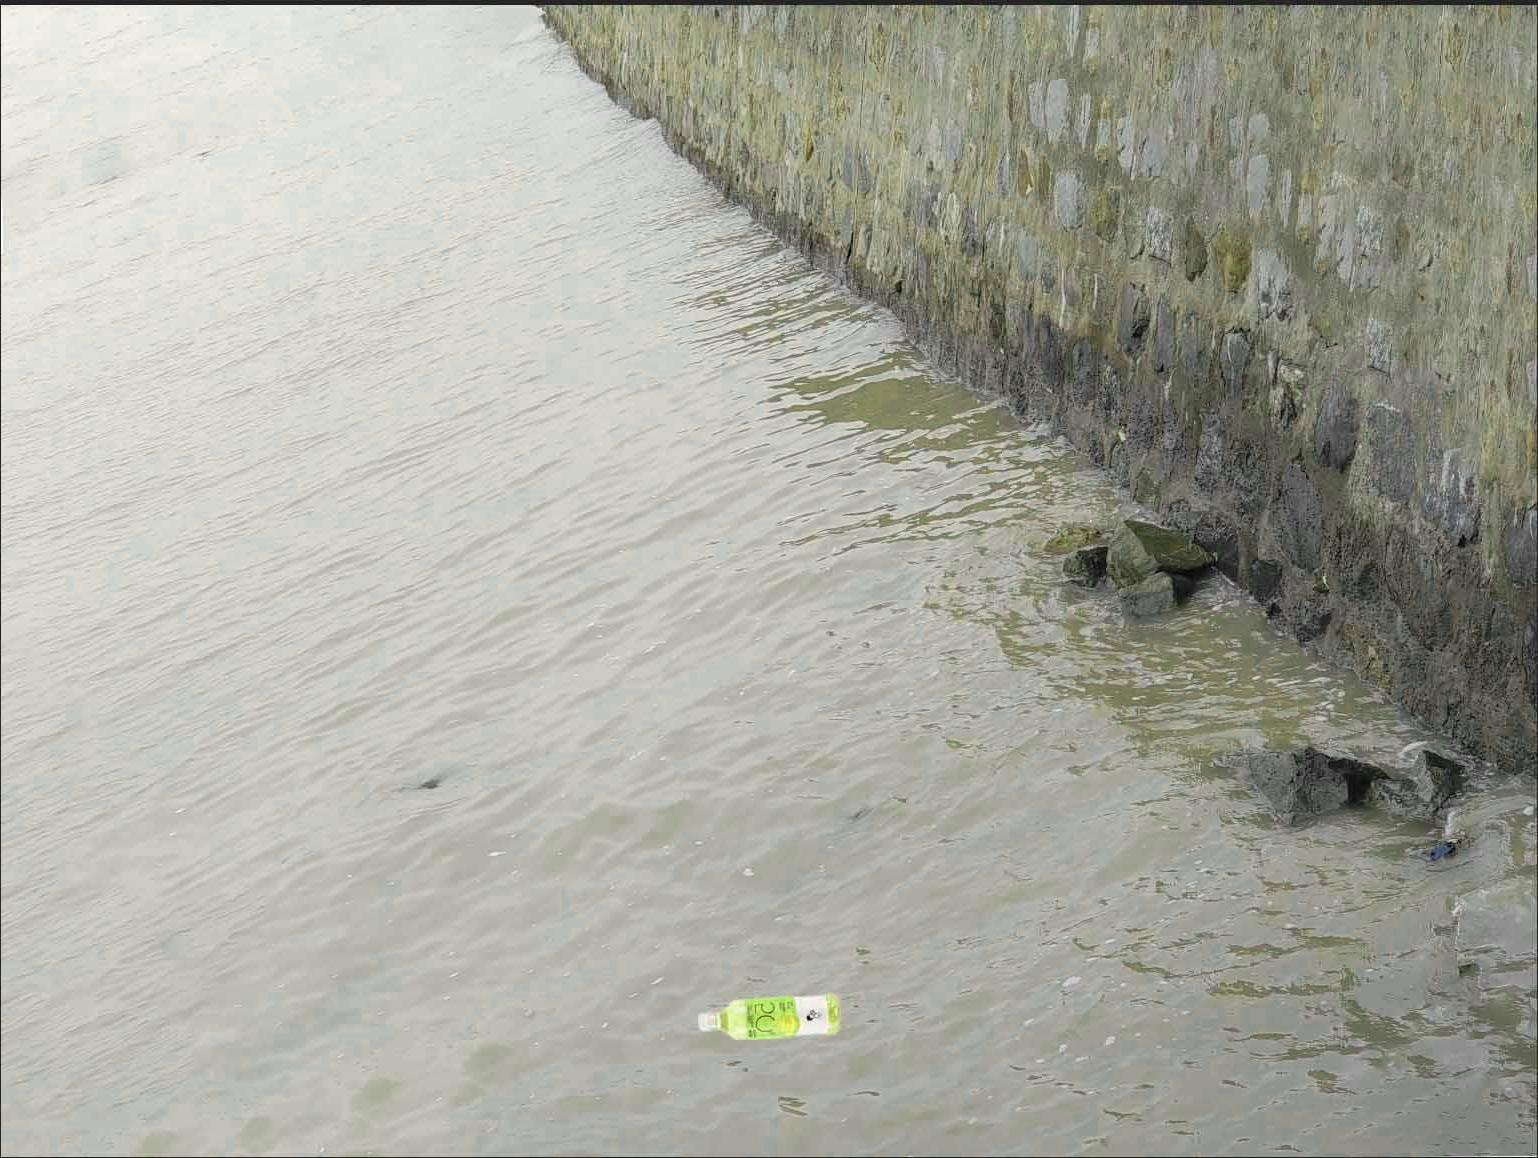Plastic: (693, 993, 836, 1045)
